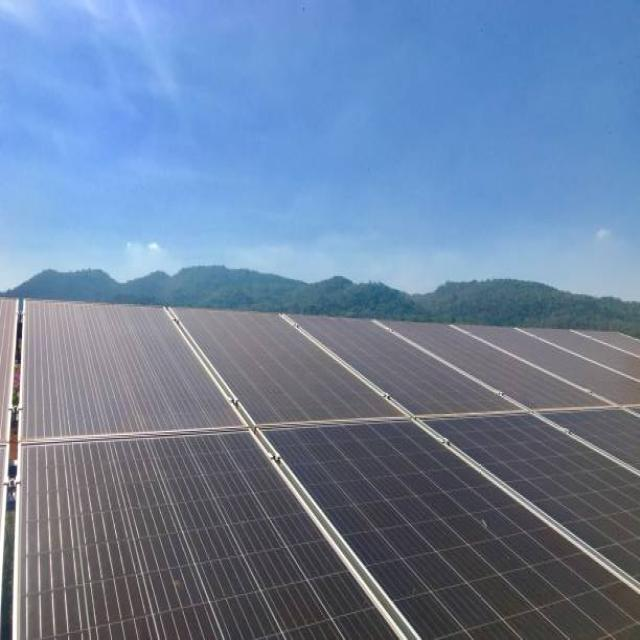dust-solar-panel: (11, 299, 640, 640)
